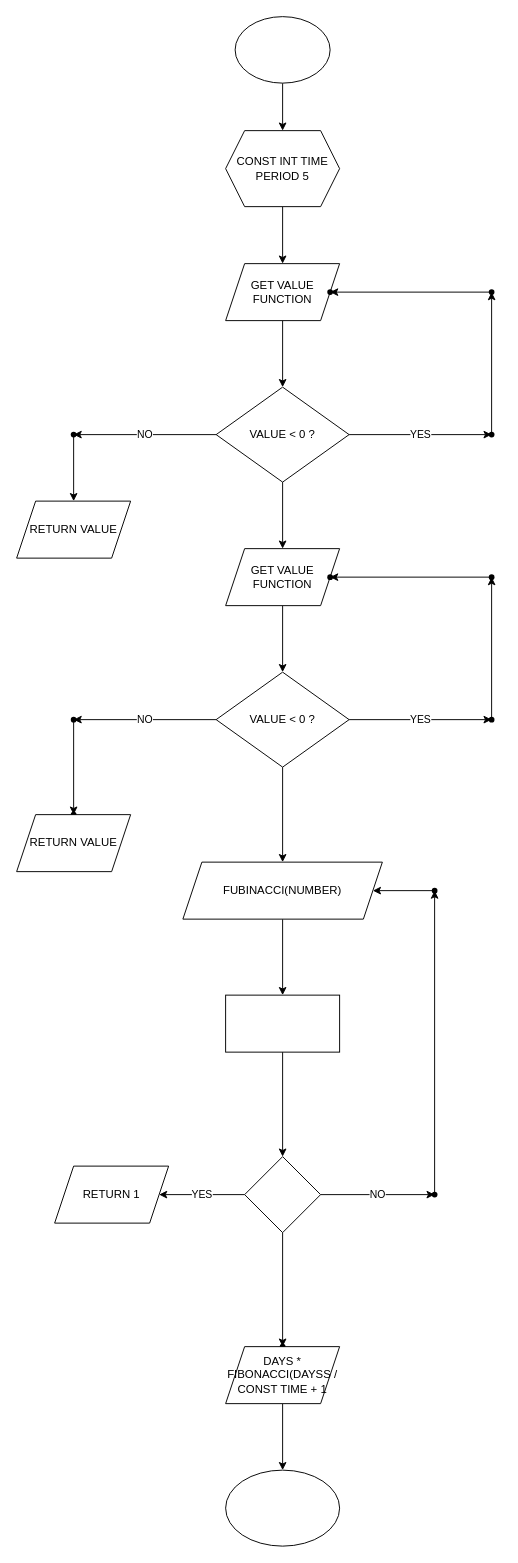
Image size: 518x1563. Some labels were removed from this diagram. Here are the shapes that lost their labels. From the top down, the centre of each, then its label:
At (282,49): "START".
At (282,1023): "RETURN NUM - 1 + NUM - 2".
At (282,1194): "IS NUMBER == 1".
At (282,1507): "END".
